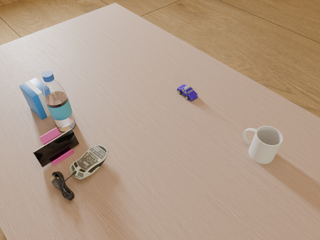bottle: (42, 71, 76, 132)
box: (19, 78, 50, 119)
cup: (243, 126, 283, 164)
mouse: (70, 145, 108, 179)
phone: (33, 129, 79, 167)
toy_car: (177, 85, 198, 101)
